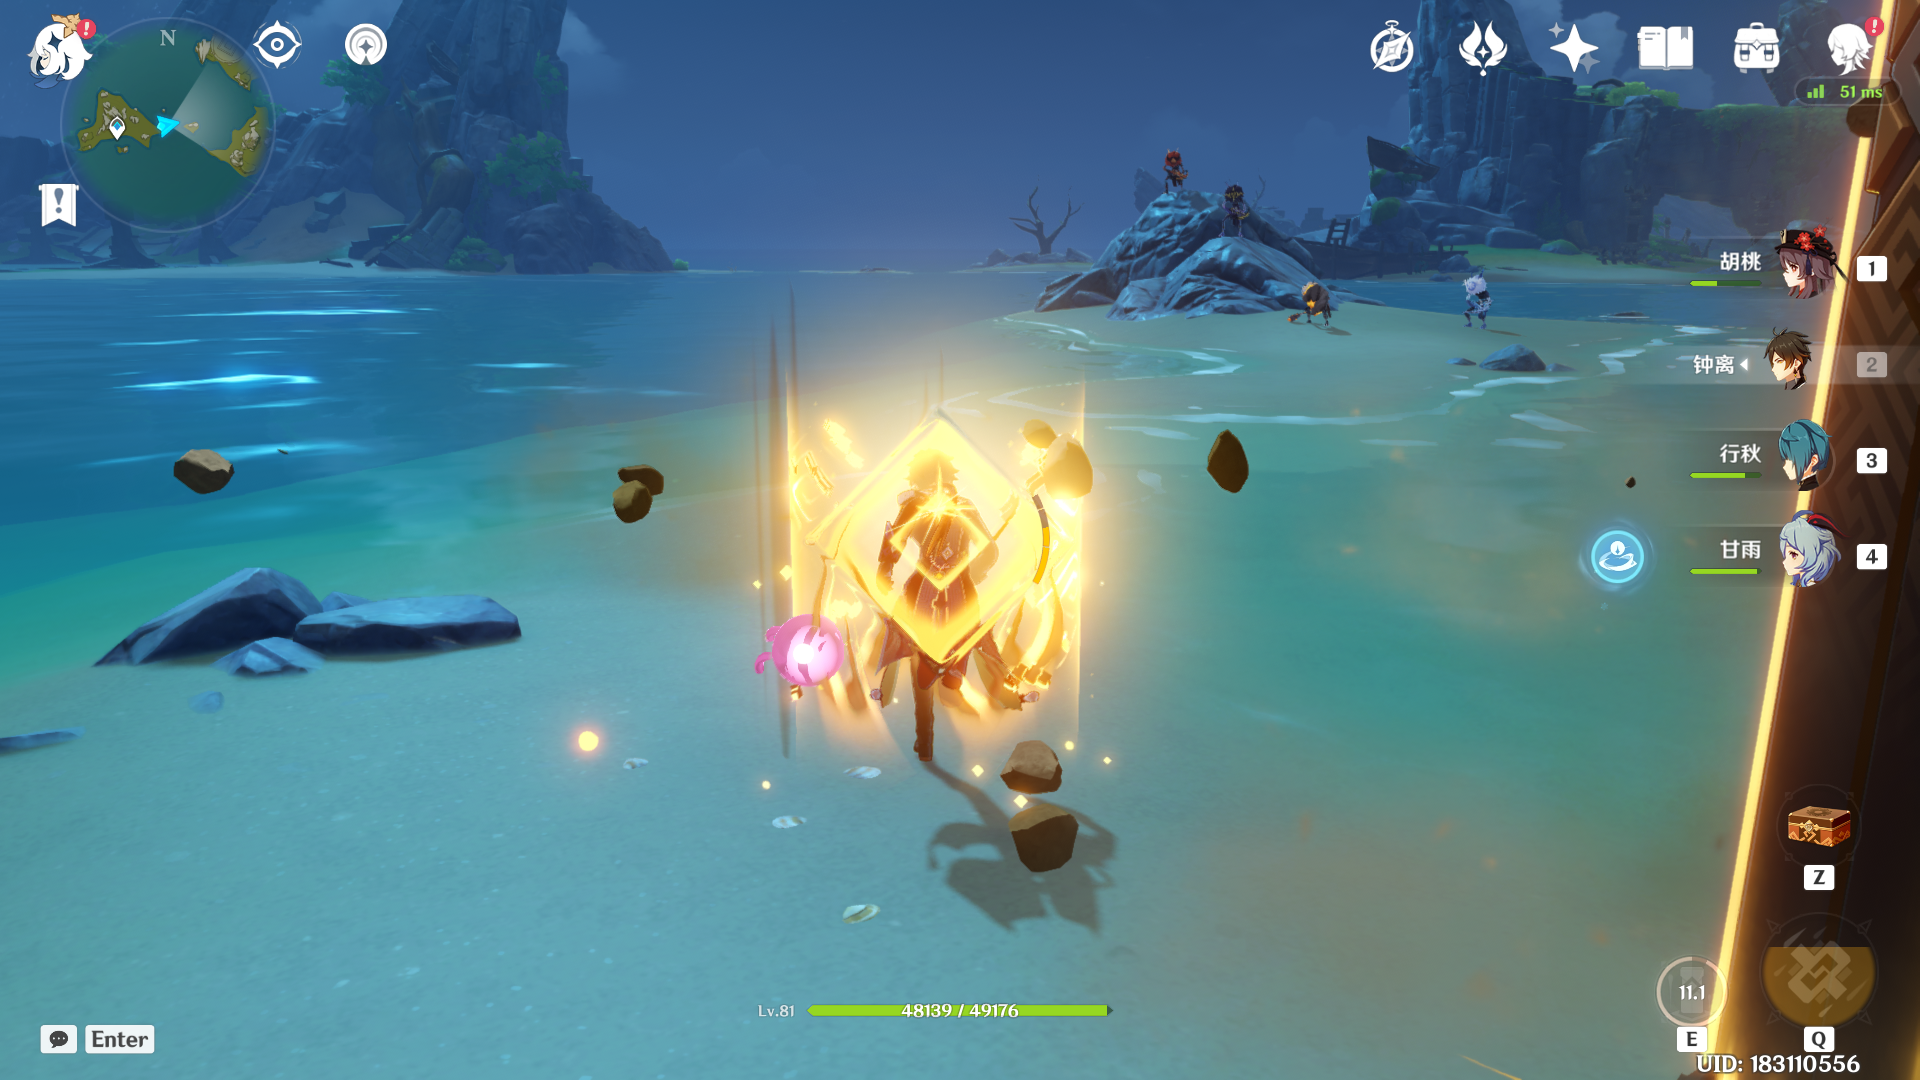character: (796, 448, 1073, 795)
hili: (1425, 243, 1513, 348), (1286, 270, 1360, 342), (1145, 135, 1216, 206), (1208, 179, 1269, 247)
